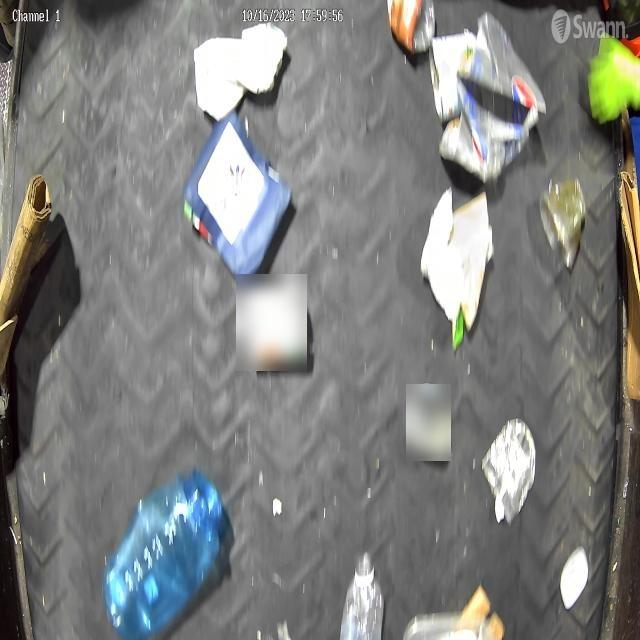milk_jug: (194, 21, 288, 122)
plastic_bottle: (338, 551, 386, 640)
